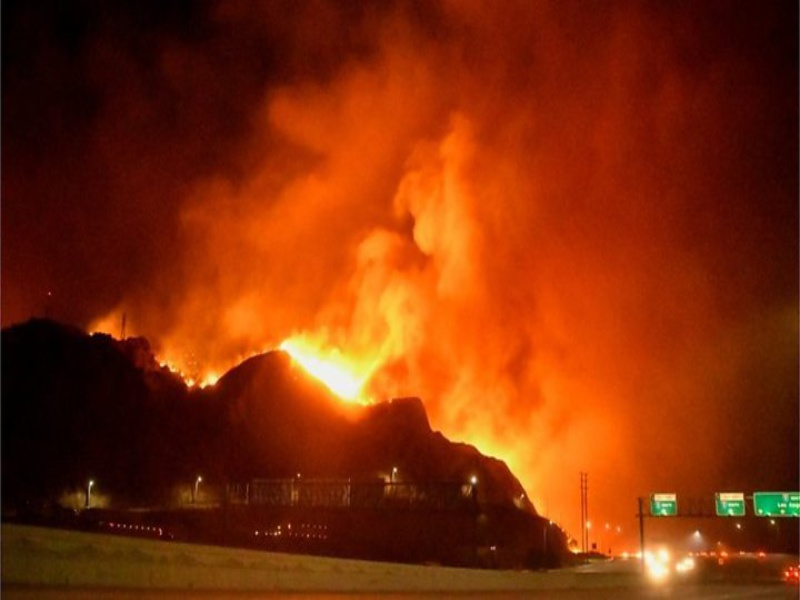fire: (314, 354, 389, 408)
